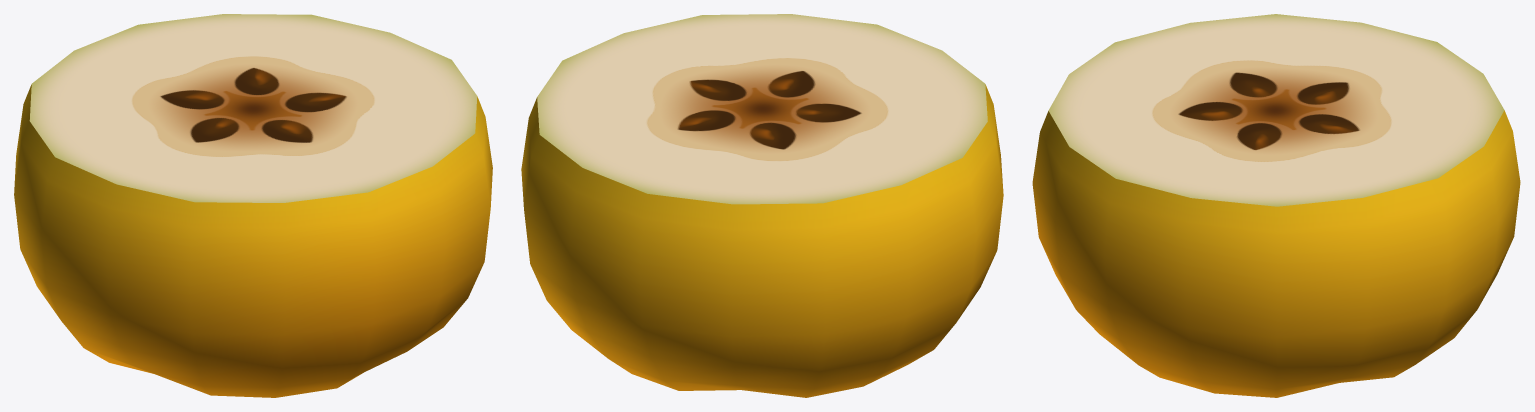
Rendered from Quince_Ripe_Half_02.fbx.
The picture shows the model from 3 angles, left to right: view 1: azimuth 30°, elevation 25°; view 2: azimuth 150°, elevation 25°; view 3: azimuth 270°, elevation 25°; orthographic projection.
Visible parts, largest first — view 1: Quince_Ripe_Half_02; view 2: Quince_Ripe_Half_02; view 3: Quince_Ripe_Half_02.
Boxes of the visible parts, box(x1,y1,x2,y2) form: Quince_Ripe_Half_02: box(14, 14, 492, 397); Quince_Ripe_Half_02: box(521, 14, 1003, 397); Quince_Ripe_Half_02: box(1032, 14, 1520, 397).
Bounding box in the file's own units: 36.74 × 19.16 × 36.74.
